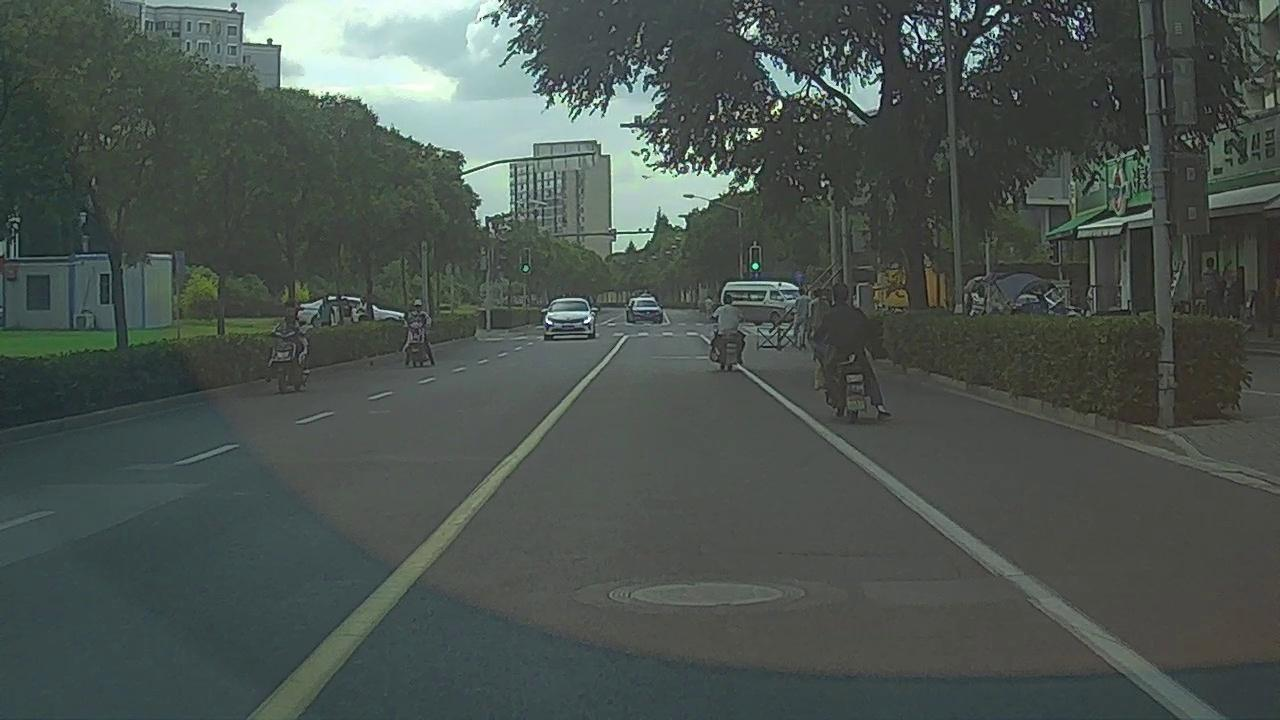traffic_light: (750, 248, 760, 272)
